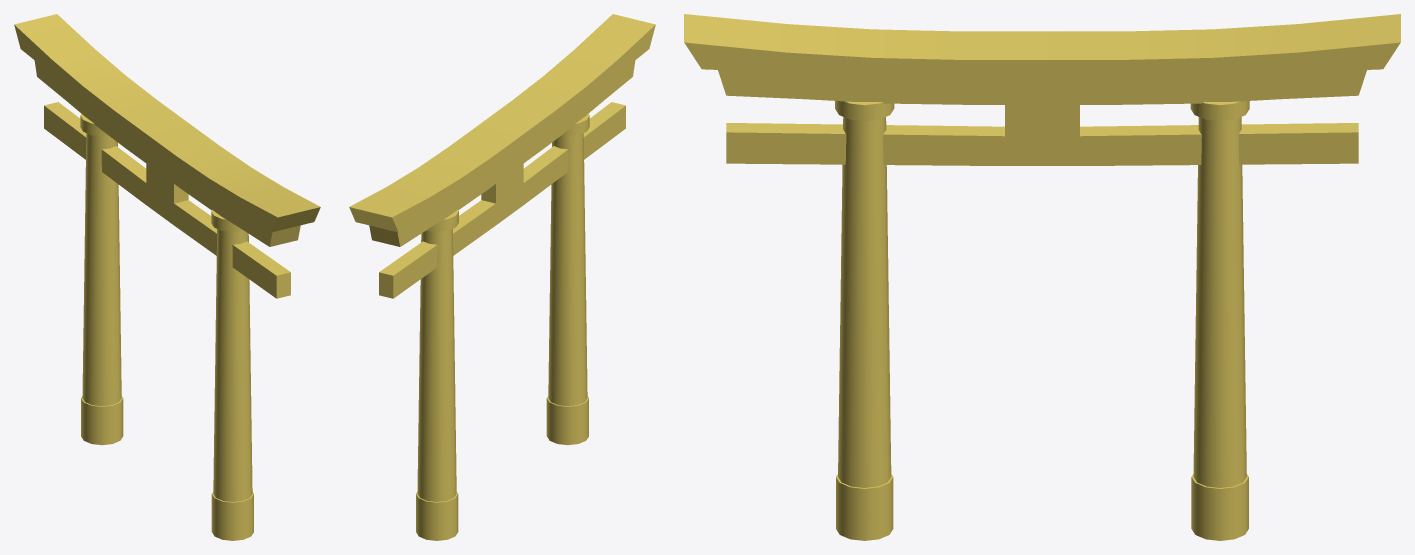
The model's file is shintoShrine.fbx.
3 views of the same model, side by side, from view 1: azimuth 30°, elevation 25°; view 2: azimuth 150°, elevation 25°; view 3: azimuth 270°, elevation 25° (orthographic). The views are drawn at different scales.
Parts seen in each view (by area): view 1: polySurface34; view 2: polySurface34; view 3: polySurface34.
Boxes of the visible parts, x1,y1,x2,y2 form: polySurface34: (14, 14, 320, 540); polySurface34: (349, 14, 655, 540); polySurface34: (684, 14, 1400, 540).
Size of the model in its own units: 126 by 1032 by 1339.
